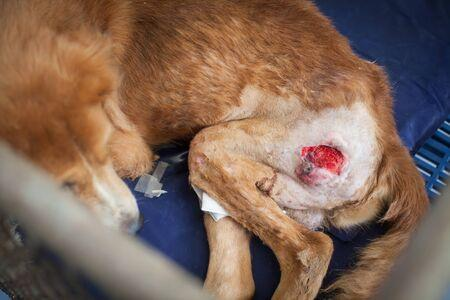bleeding: (293, 132, 352, 183)
